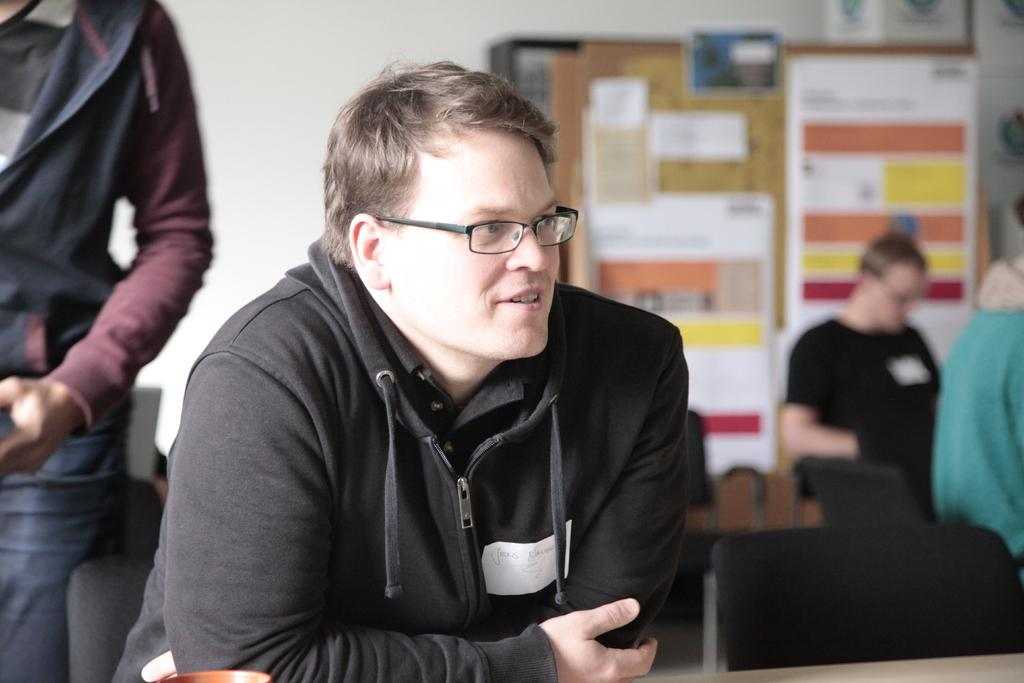Sem Máscara: (389, 129, 558, 355)
